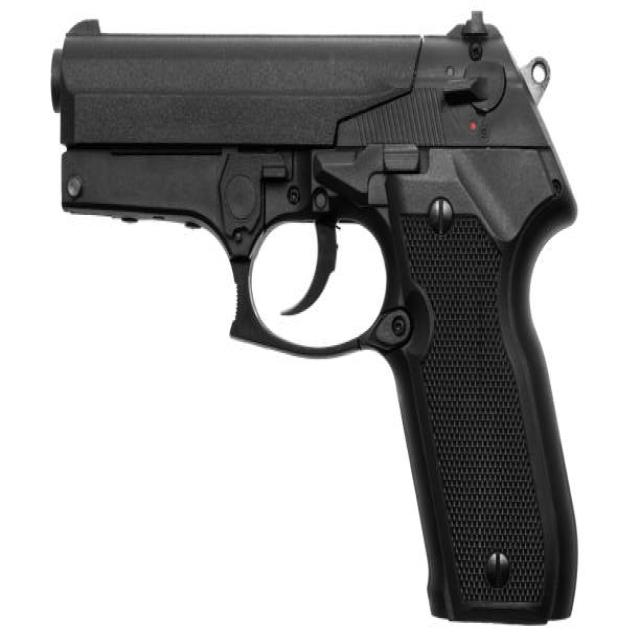pistol: (40, 4, 587, 630)
